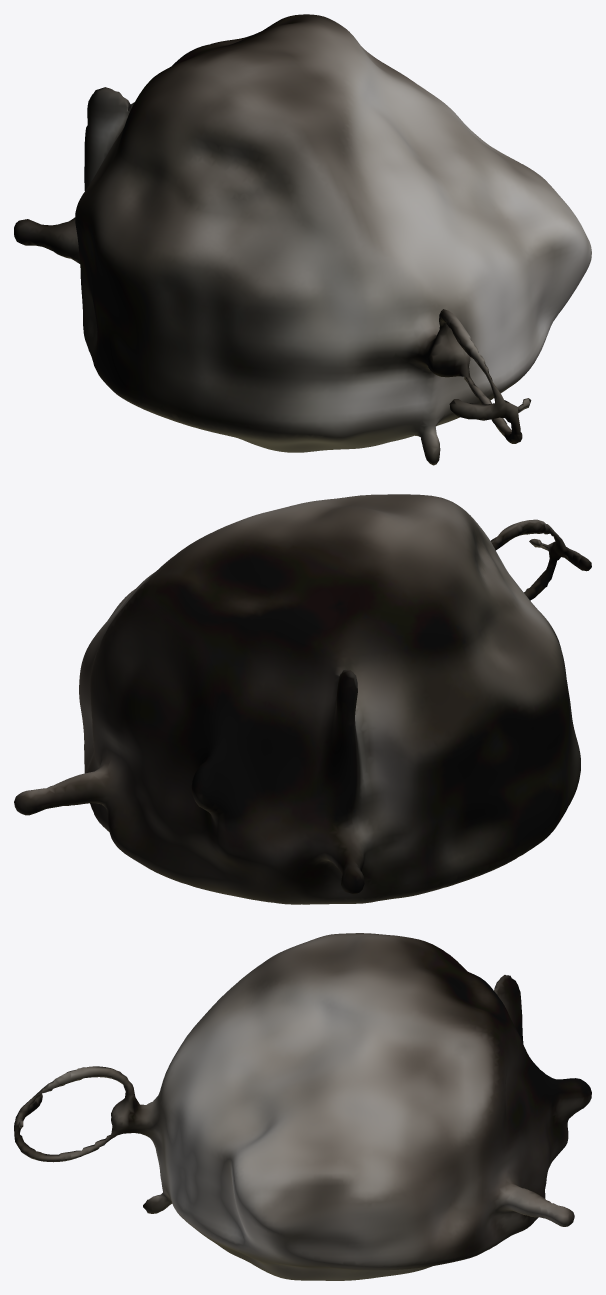
File: alarm.glb
3 views of the same model, one above another, from view 1: azimuth 30°, elevation 25°; view 2: azimuth 150°, elevation 25°; view 3: azimuth 270°, elevation 25° (orthographic). The views are drawn at different scales.
Bounding box in the file's own units: 0.6946 × 0.5566 × 0.9976.
